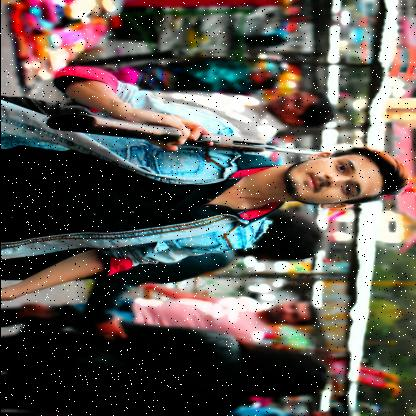rifle: (43, 111, 334, 159)
